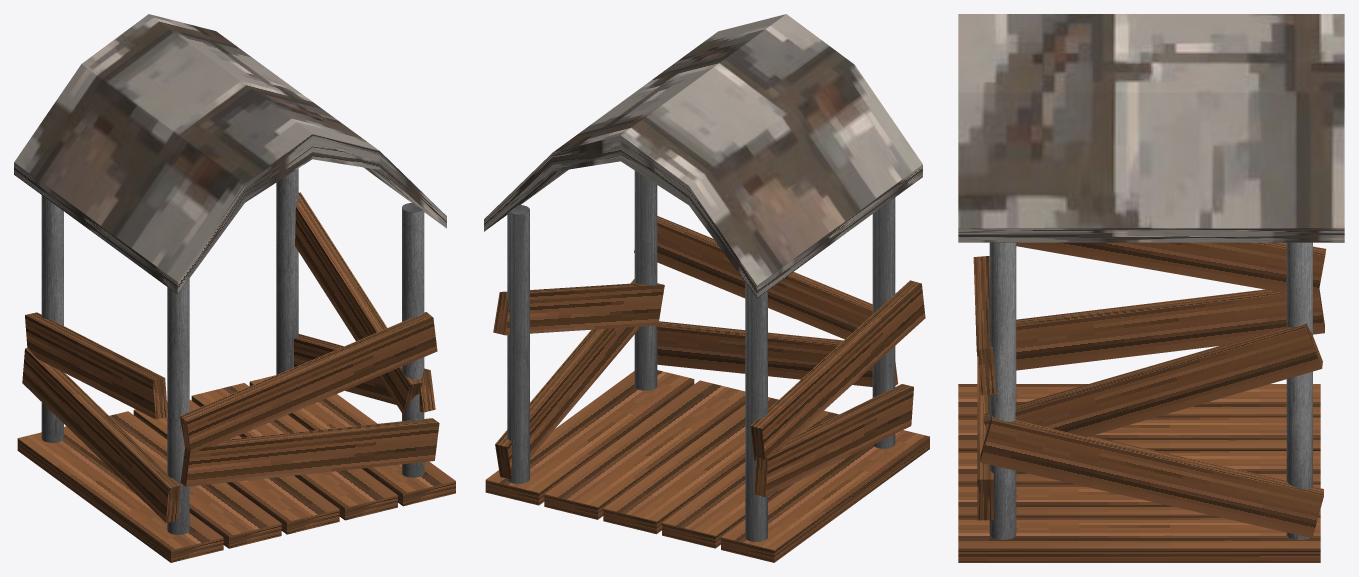
Rendered from Lift.fbx.
3 views of the same model, side by side, from view 1: azimuth 30°, elevation 25°; view 2: azimuth 150°, elevation 25°; view 3: azimuth 270°, elevation 25° (orthographic). The views are drawn at different scales.
Visible parts, largest first — view 1: Cube.027, Cube, Cube.033, Cube.032, Cylinder.001, Cube.028, Cylinder, Cube.029, Cube.031, Cube.030; view 2: Cube.027, Cube, Cylinder, Cube.029, Cube.033, Cylinder.001, Cube.028, Cube.032, Cube.031, Cube.030; view 3: Cube.027, Cube, Cube.030, Cube.031, Cube.028, Cube.029, Cylinder.001, Cylinder, Cube.033, Cube.032.
Part boxes in pixels (x1=…): Cube.027: x1=14, y1=14, x2=446, y2=294; Cube: x1=17, y1=375, x2=455, y2=562; Cube.033: x1=180, y1=312, x2=437, y2=454; Cube.032: x1=180, y1=418, x2=439, y2=486; Cylinder.001: x1=167, y1=203, x2=424, y2=534; Cube.028: x1=22, y1=348, x2=180, y2=522; Cylinder: x1=41, y1=168, x2=298, y2=442; Cube.029: x1=25, y1=312, x2=167, y2=419; Cube.031: x1=295, y1=192, x2=422, y2=414; Cube.030: x1=294, y1=334, x2=435, y2=412; Cube.027: x1=484, y1=14, x2=922, y2=298; Cube: x1=485, y1=370, x2=929, y2=562; Cylinder: x1=507, y1=205, x2=767, y2=541; Cube.029: x1=750, y1=280, x2=925, y2=460; Cube.033: x1=634, y1=216, x2=872, y2=339; Cylinder.001: x1=634, y1=170, x2=895, y2=448; Cube.028: x1=753, y1=384, x2=913, y2=497; Cube.032: x1=657, y1=321, x2=898, y2=386; Cube.031: x1=493, y1=283, x2=664, y2=335; Cube.030: x1=495, y1=279, x2=639, y2=478; Cube.027: x1=958, y1=14, x2=1344, y2=242; Cube: x1=958, y1=384, x2=1320, y2=562; Cube.030: x1=980, y1=416, x2=1323, y2=537; Cube.031: x1=983, y1=323, x2=1322, y2=437; Cube.028: x1=1016, y1=288, x2=1324, y2=370; Cube.029: x1=1016, y1=242, x2=1326, y2=298; Cylinder.001: x1=989, y1=242, x2=1016, y2=539; Cylinder: x1=1286, y1=242, x2=1312, y2=539; Cube.033: x1=973, y1=256, x2=996, y2=395; Cube.032: x1=977, y1=360, x2=993, y2=520.
Size of the model in its own units: 155 by 201 by 151.
3 materials, 3 textured.
